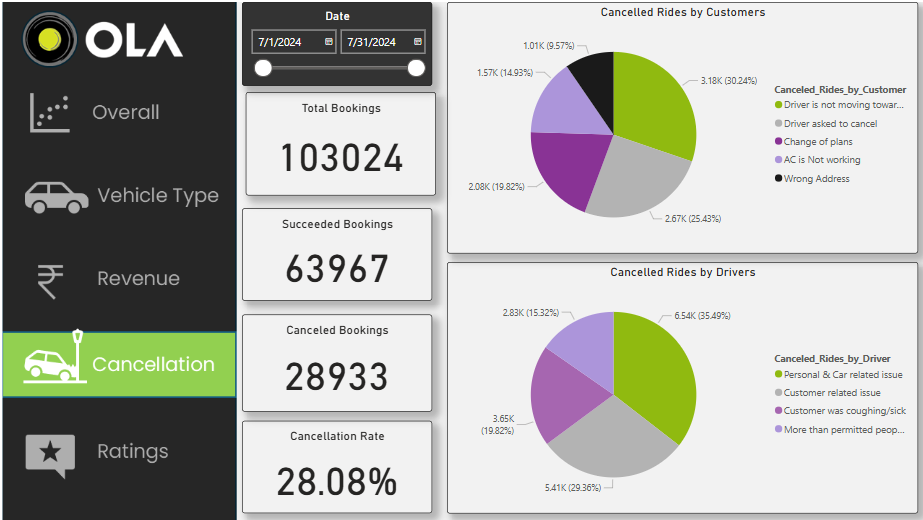

This screenshot's page, from the dashboard's own definition file:
{"tool":"powerbi","page":{"name":"Cancellation","canvas":[1280,720],"ordinal":3},"visuals":[{"type":"actionButton","box":[0,213.5,324.5,89.3],"z":0},{"type":"actionButton","box":[0,340.2,324.5,89.3],"z":1000},{"type":"actionButton","box":[0,574.3,324.5,97.7],"z":2000},{"type":"actionButton","box":[0,114.6,324.5,89.3],"z":3000}]}

Visuals, with their boxes in screenshot pixels (x1, y1, x2, y2), scaled from the page's 1280x720 canvas onto the 923x520 screenshot:
actionButton: box=[0, 154, 234, 219]
actionButton: box=[0, 246, 234, 310]
actionButton: box=[0, 415, 234, 485]
actionButton: box=[0, 83, 234, 147]
